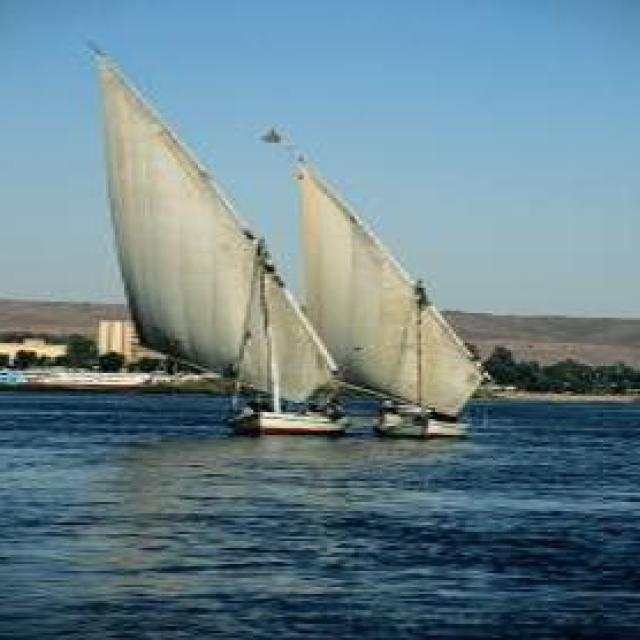sailboat: (87, 33, 336, 434), (288, 124, 497, 437)
